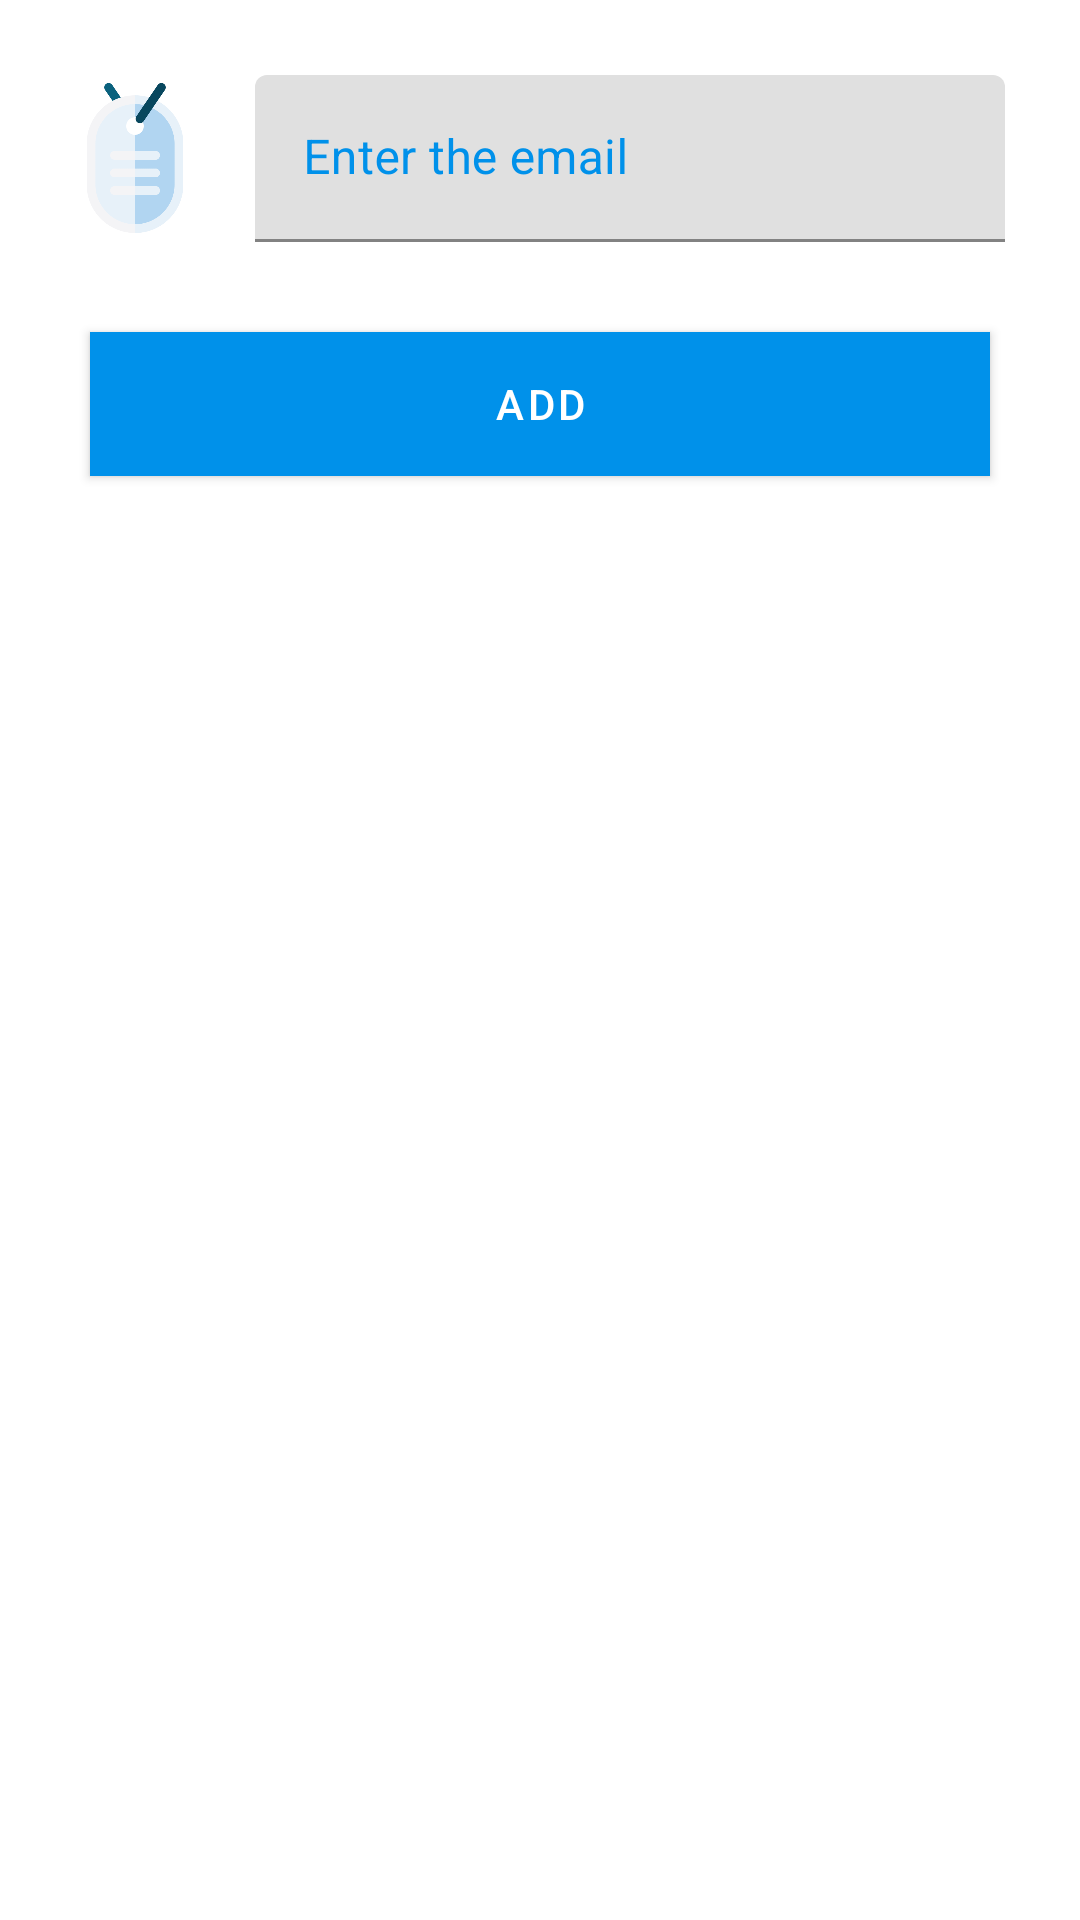

Named icons in this screenshot (1080 × 1920) and their centers, [x,y]:
im name: [135,158]
